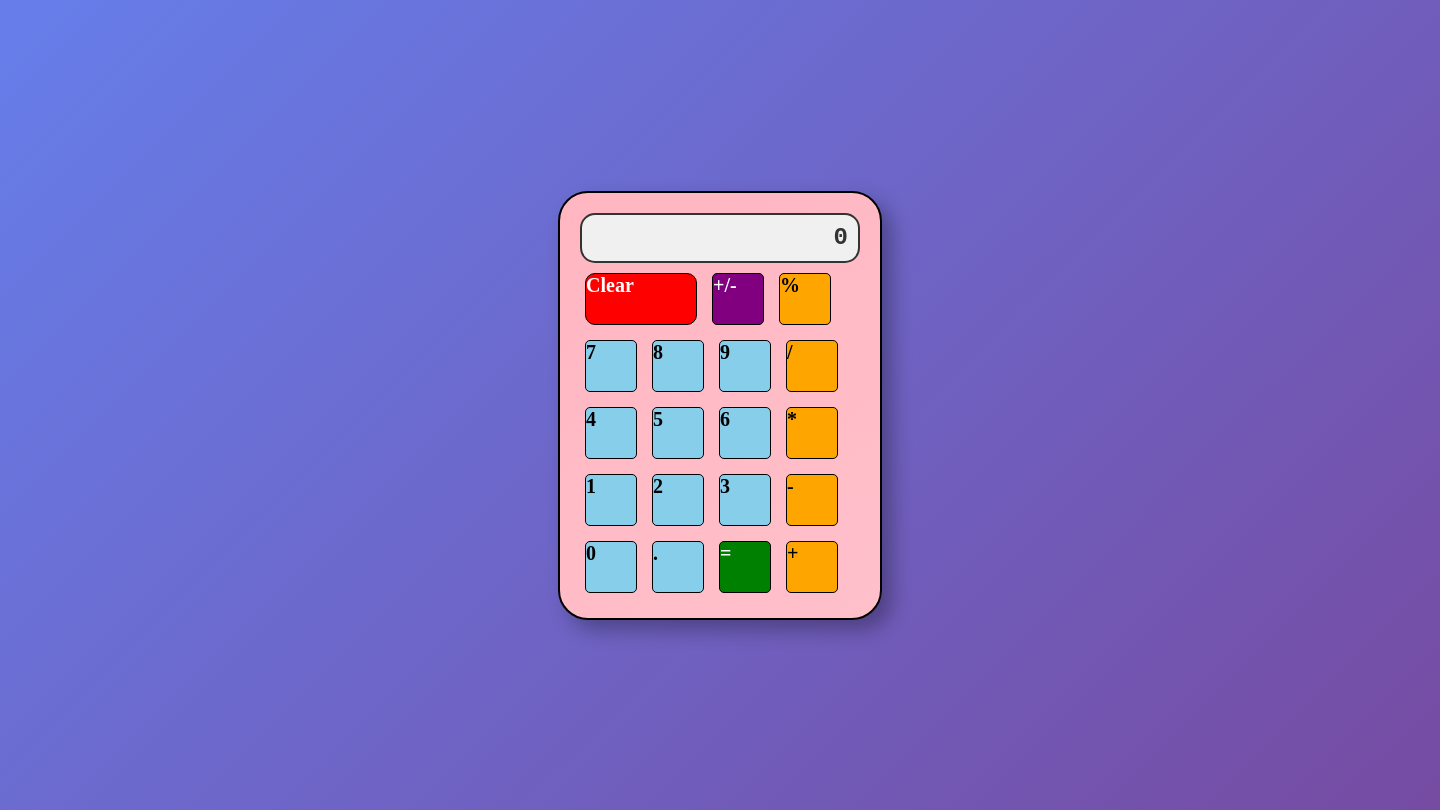
Scenario: Calculator Tests › should handle decimal point correctly
Click the text "3" at (745, 500), box [719,474,771,526]
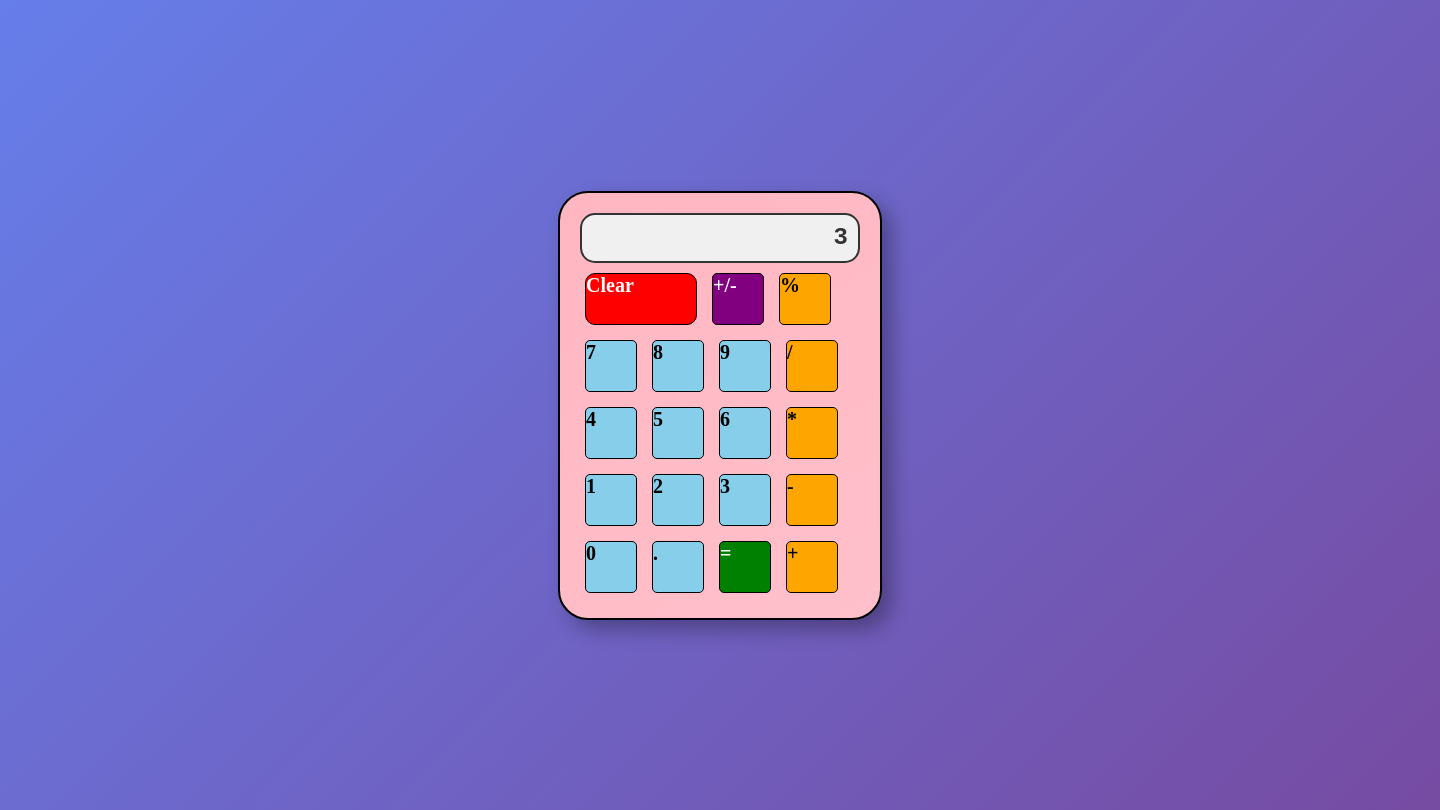
Click the text "." at (678, 566), box [652,540,704,592]
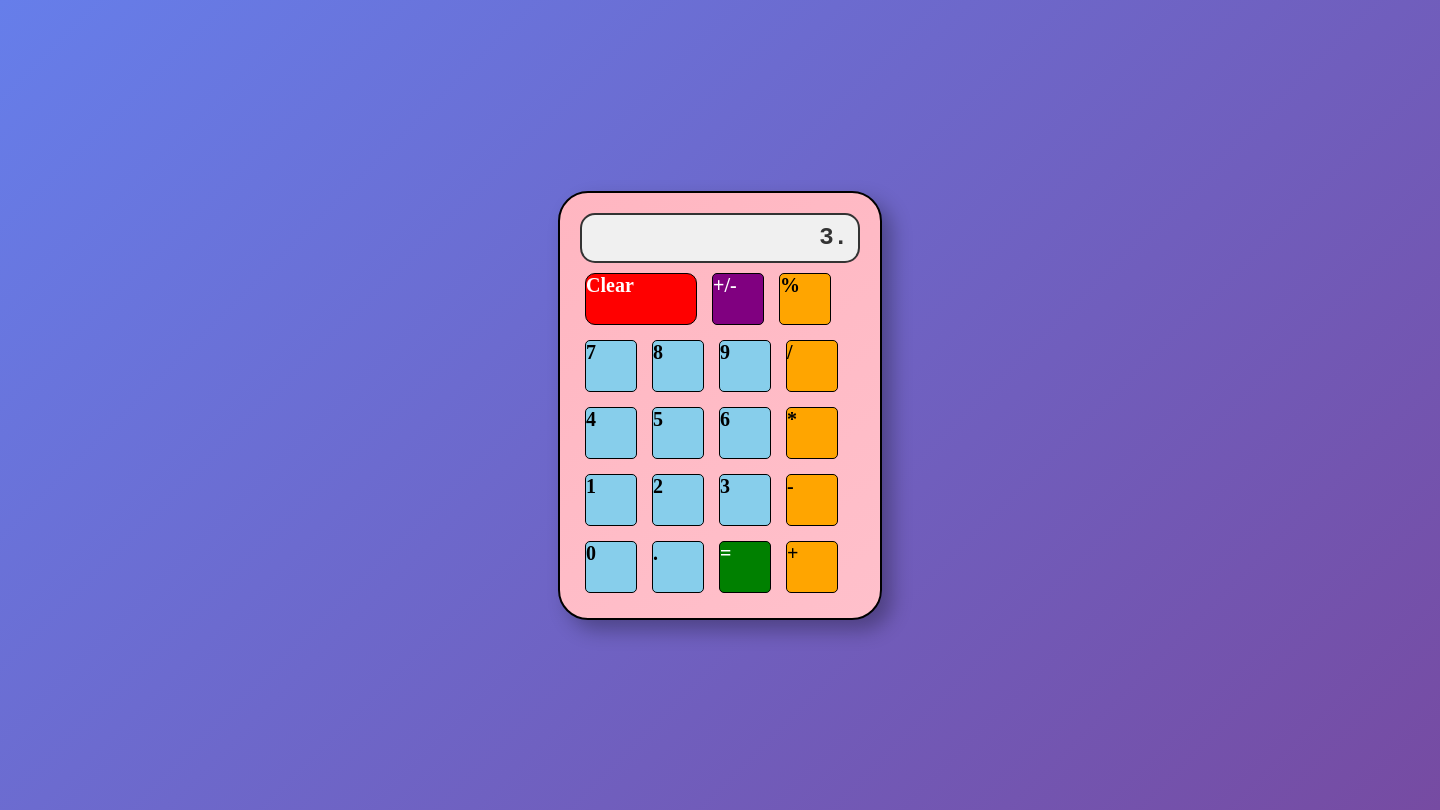
Click the text "1" at (611, 500), box [585,474,637,526]
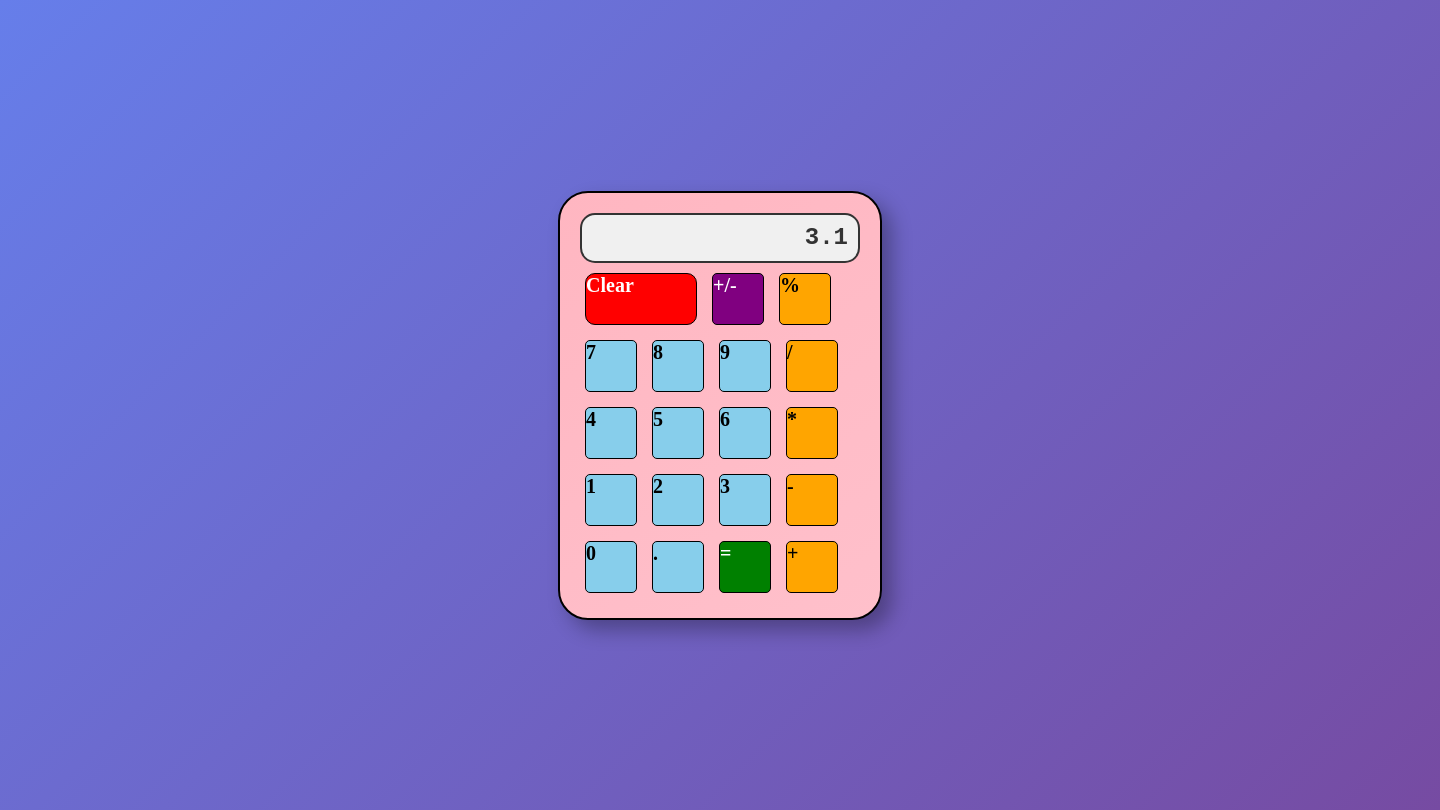
Click the text "4" at (611, 432), box [585,406,637,458]
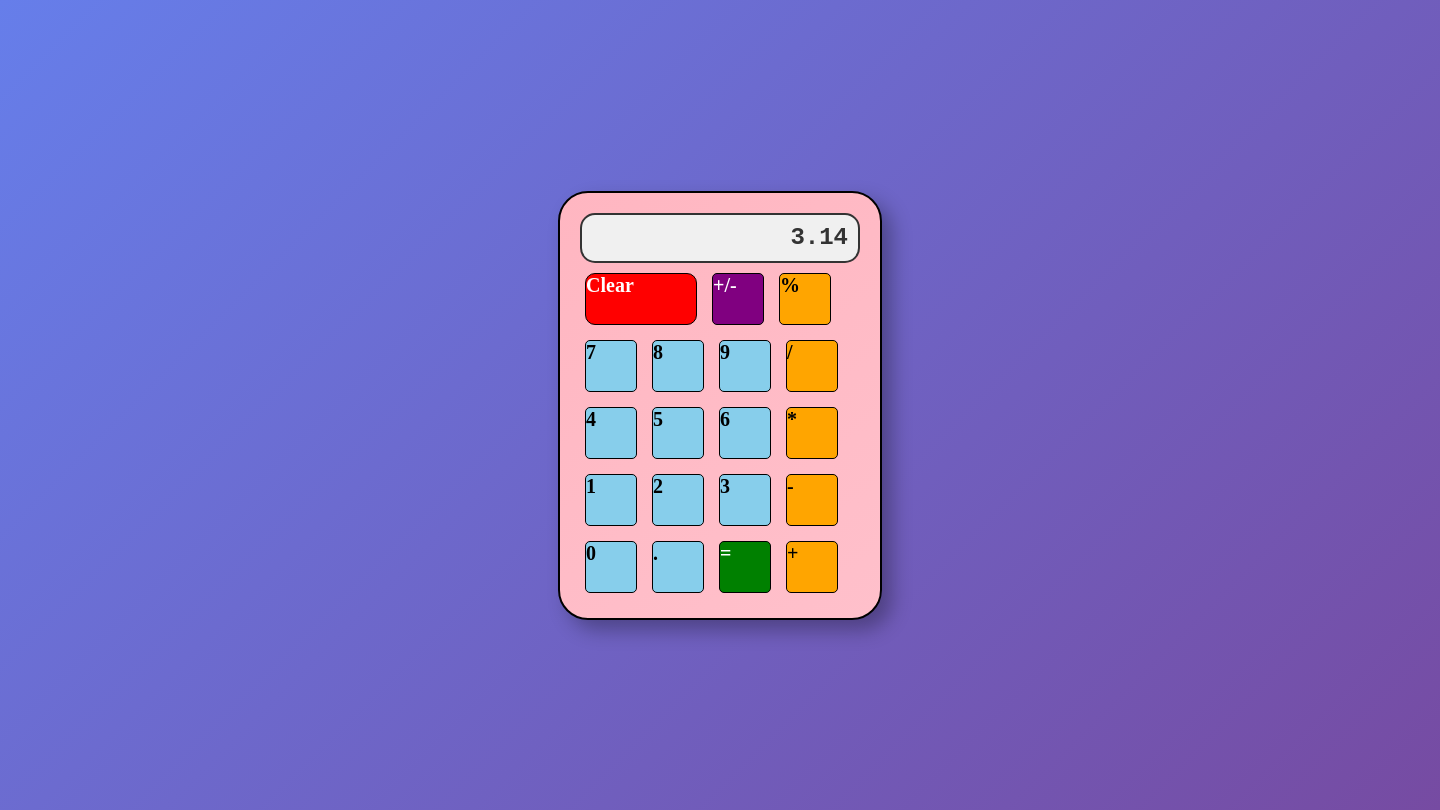
Result: the field showing "3.14" is shown at [580,212,860,262]
